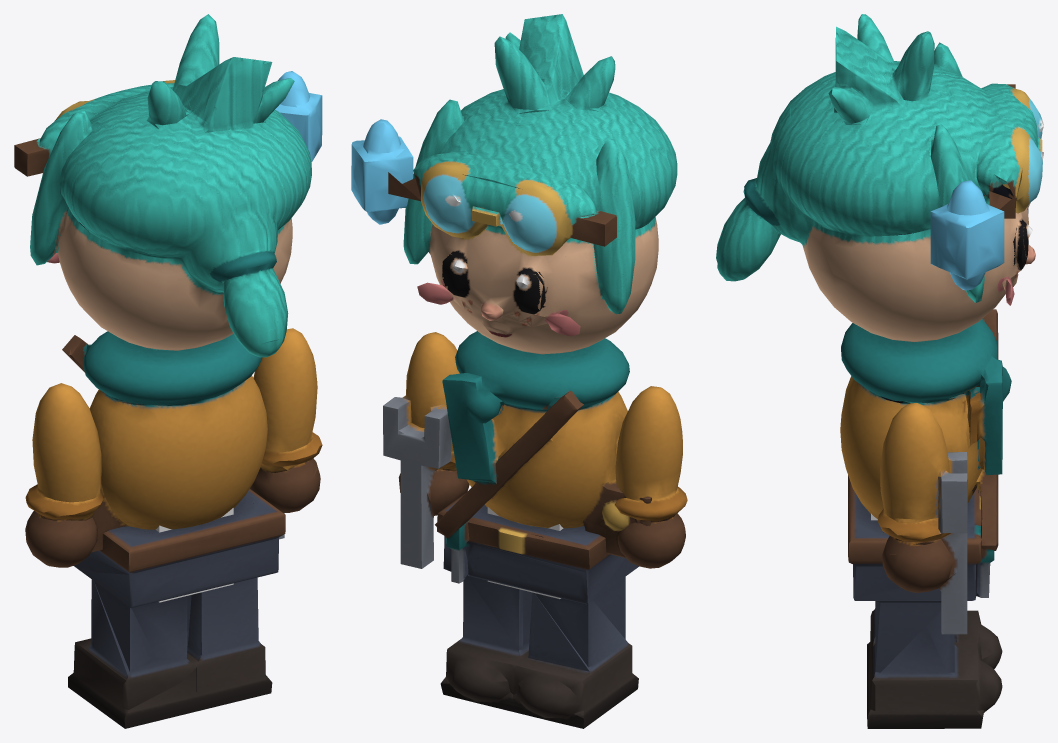
The model's file is Wren.fbx.
The picture shows the model from 3 angles, left to right: view 1: azimuth 30°, elevation 25°; view 2: azimuth 150°, elevation 25°; view 3: azimuth 270°, elevation 25°; orthographic projection. The views are drawn at different scales.
Parts seen in each view (by area): view 1: Head, Hips, Torso, ArmL, ArmR, Stone; view 2: Head, Hips, Torso, ArmR, ArmL, Stone; view 3: Head, Torso, Hips, ArmR, Stone.
Boxes of the visible parts, x1,y1,x2,y2 form: Head: (14,14,311,357); Hips: (68,489,285,728); Torso: (62,331,267,552); ArmL: (25,383,103,567); ArmR: (250,328,322,539); Stone: (275,71,322,162); Head: (388,14,677,354); Hips: (437,491,638,728); Torso: (435,331,651,557); ArmR: (383,332,469,568); ArmL: (615,386,687,568); Stone: (351,119,413,224); Head: (716,14,1043,341); Torso: (840,309,1011,550); Hips: (848,475,1002,728); ArmR: (877,403,967,634); Stone: (930,180,1004,290).
Bounding box in the file's own units: 4.24 × 8.56 × 3.73.
Materials: 1 (1 with a texture image).
